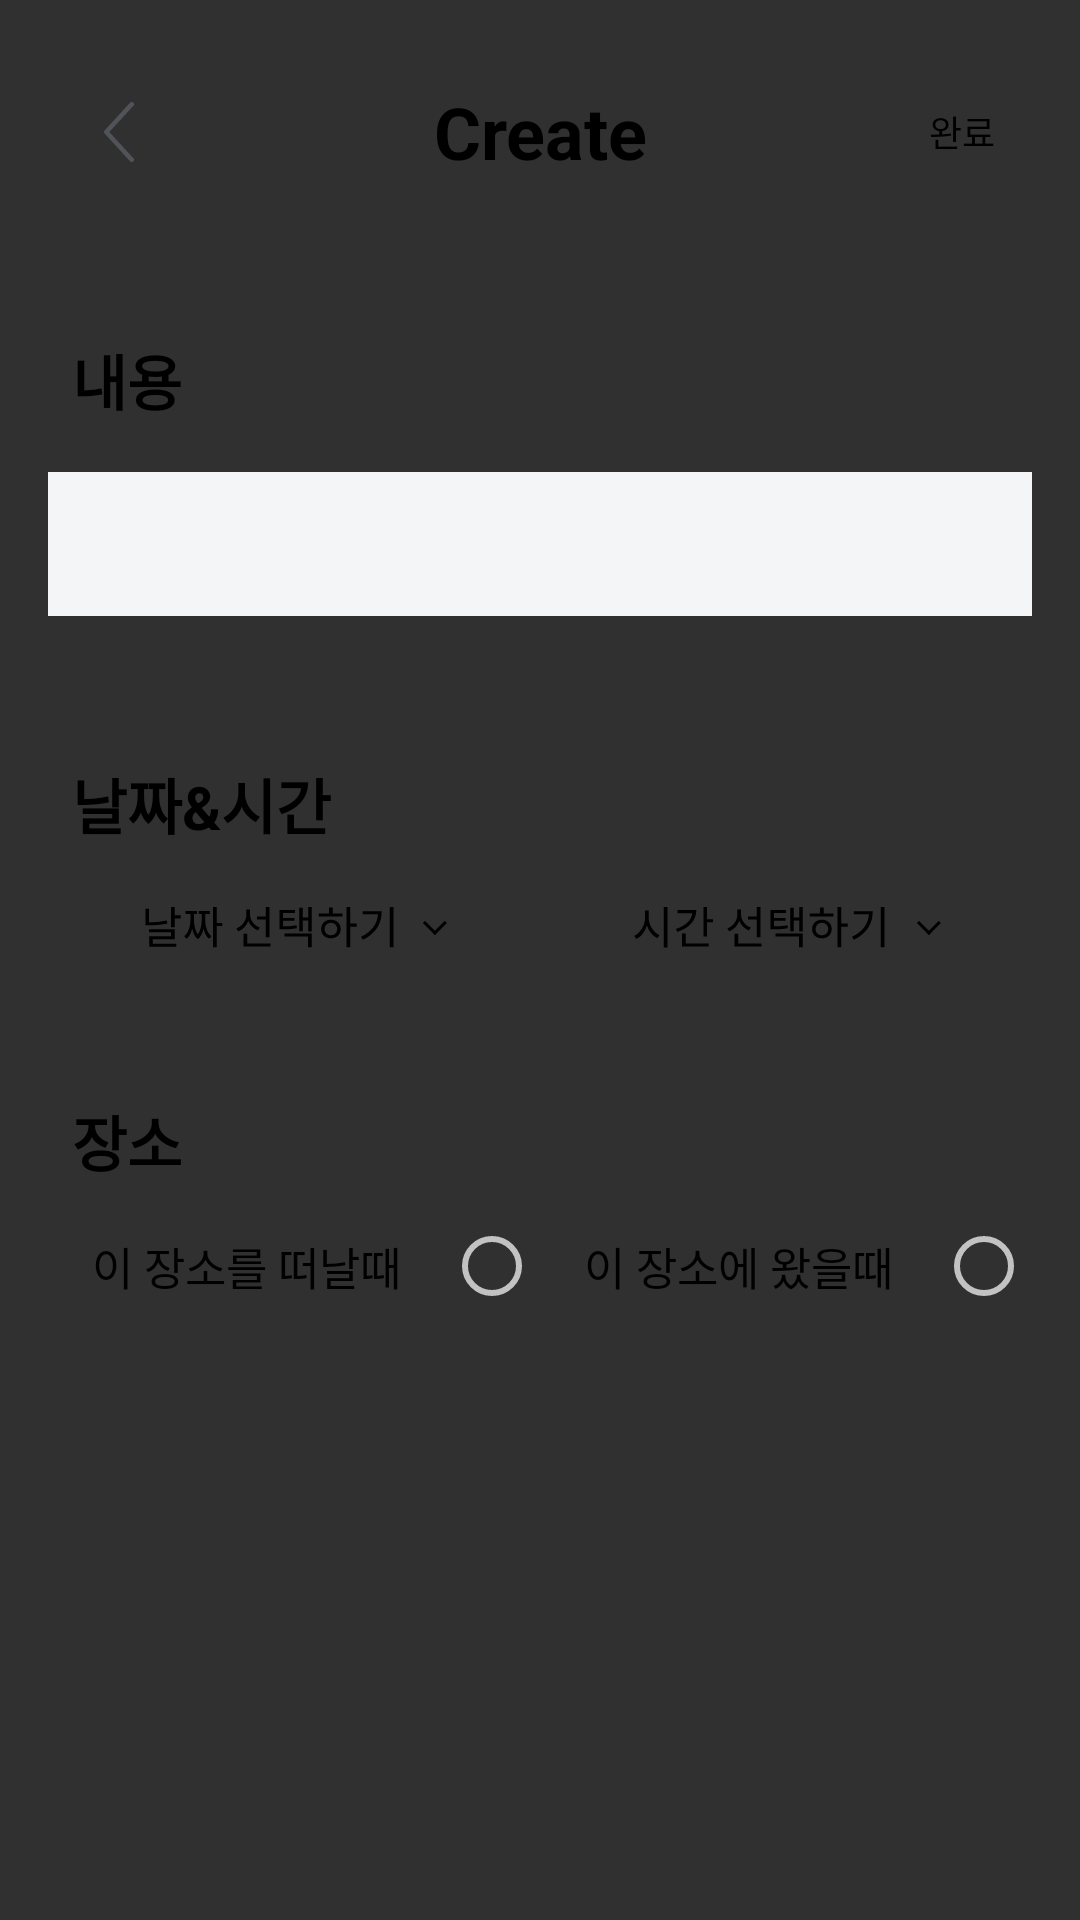

Named icons in this screenshot (1080 x 1920) and their centers, point (x, y):
topbarbutton: point (119, 132)
